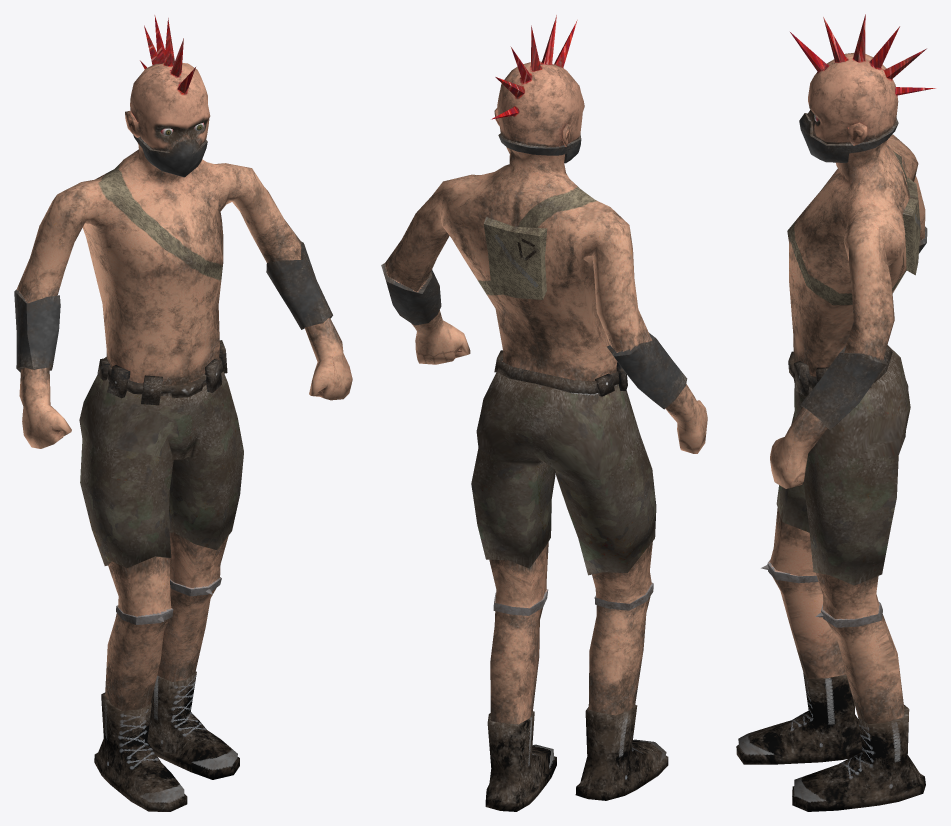
Rendered from Anim_interruptor_npc2.0018.obj.
3 views of the same model, side by side, from view 1: azimuth 30°, elevation 25°; view 2: azimuth 150°, elevation 25°; view 3: azimuth 270°, elevation 25° (orthographic). The views are drawn at different scales.
Visible parts, largest first — view 1: polySurface1; view 2: polySurface1; view 3: polySurface1.
Part boxes in pixels (x1=…): polySurface1: x1=14, y1=15, x2=352, y2=811; polySurface1: x1=381, y1=15, x2=707, y2=811; polySurface1: x1=736, y1=14, x2=935, y2=811.
Size of the model in its own units: 4.3 by 10.11 by 2.36.
